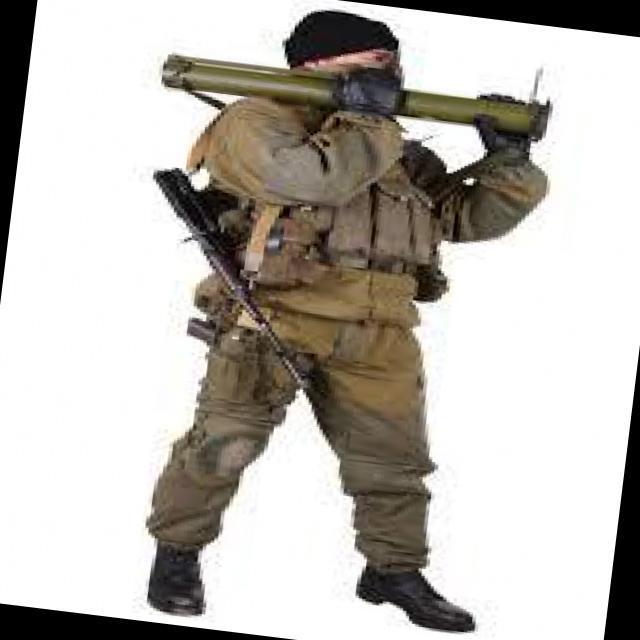rocket: (159, 51, 560, 141)
